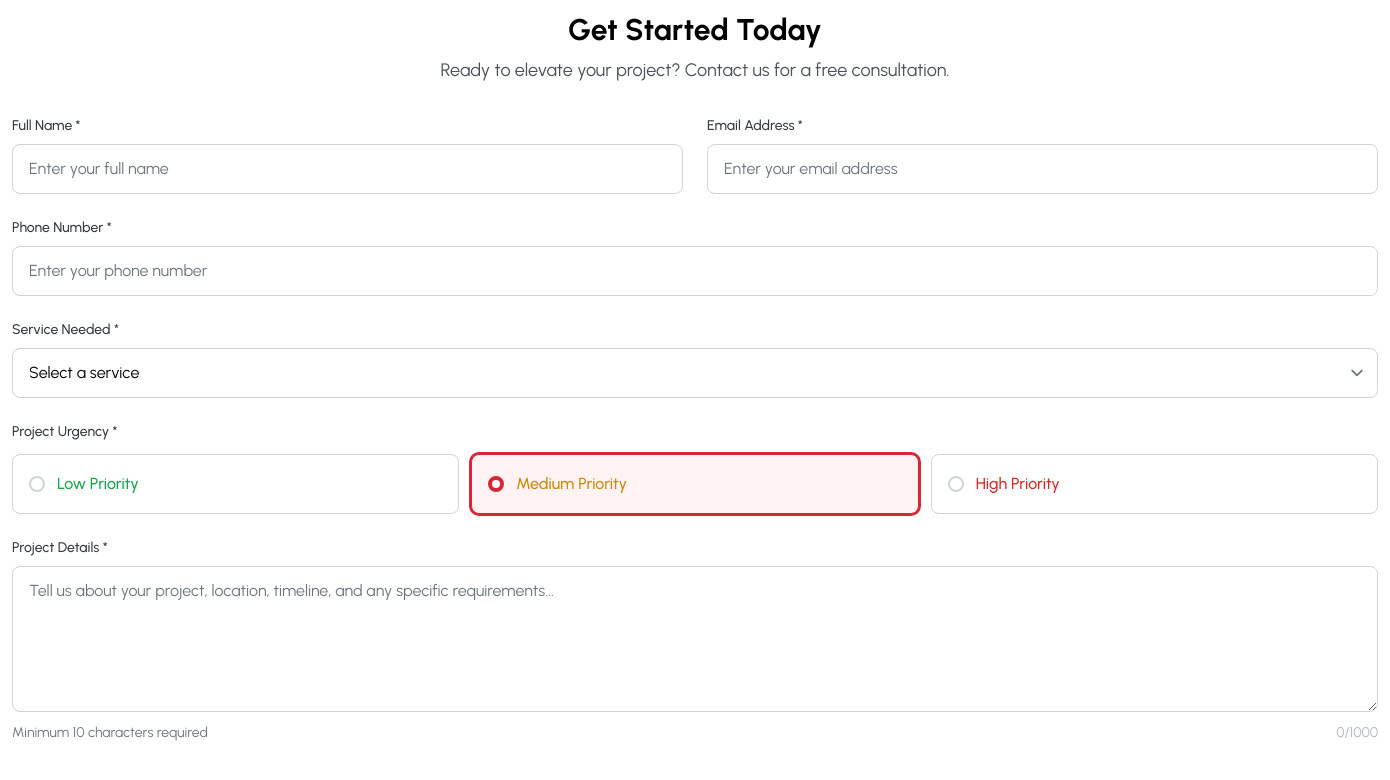
Test: ContactForm › shows character count for message field
The width and height of the screenshot is (1390, 780).
Type "Test message" into the text box labelled "Project Details *". click: (695,639)
box: [12,566,1378,712]
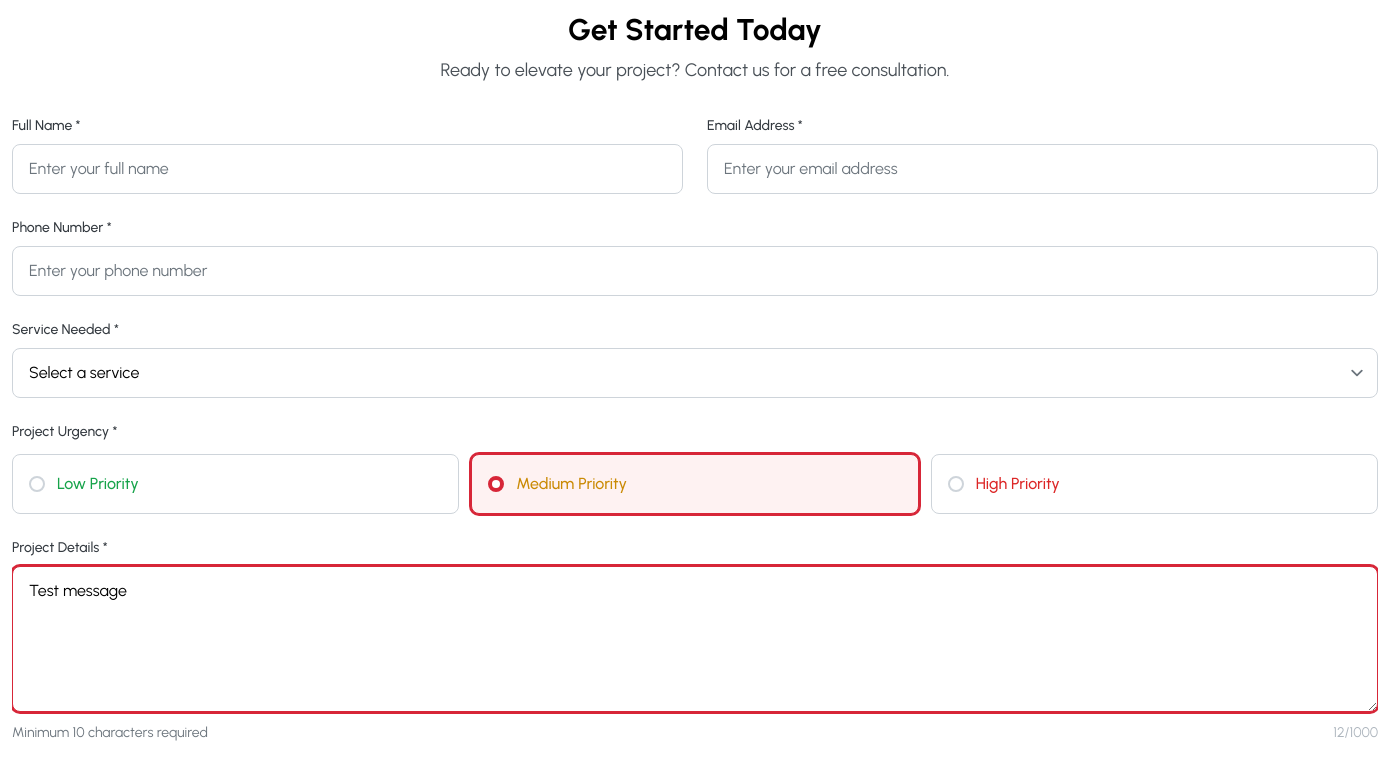
Result: the text "12/1000" is shown at [1333,723,1378,743]
